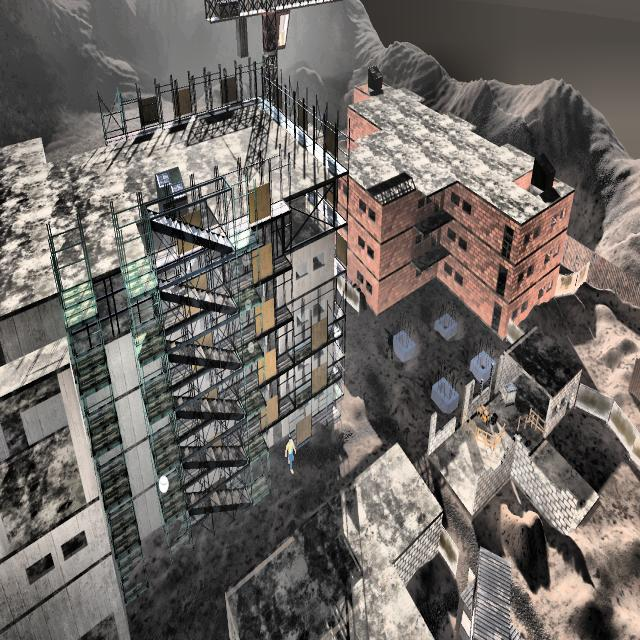bad: (382, 326, 397, 364)
good: (280, 430, 299, 482)
